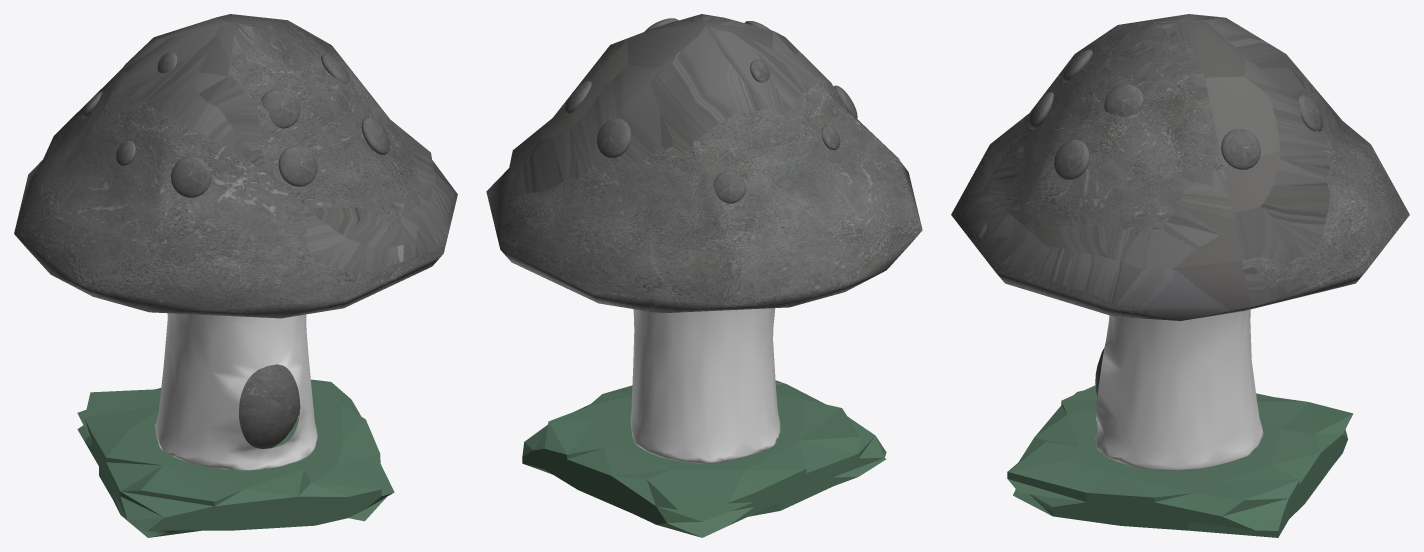
The model's file is MushroomCave02.fbx.
3 renders of one model, left to right at view 1: azimuth 30°, elevation 25°; view 2: azimuth 150°, elevation 25°; view 3: azimuth 270°, elevation 25°, orthographic. The views are drawn at different scales.
Parts seen in each view (by area): view 1: MushroomHead, pCube1, MushroomHouse, pSphere19, Spoors15, Spoors, Spoors1, Spoors3; view 2: MushroomHead, pCube1, MushroomHouse, Spoors7, Spoors5; view 3: MushroomHead, pCube1, MushroomHouse, Spoors8, Spoors3, Spoors2, Spoors7.
Boxes of the visible parts, x1=… form: MushroomHead: x1=14, y1=14, x2=457, y2=318; pCube1: x1=77, y1=379, x2=394, y2=537; MushroomHouse: x1=155, y1=313, x2=317, y2=470; pSphere19: x1=239, y1=364, x2=300, y2=448; Spoors15: x1=171, y1=156, x2=211, y2=197; Spoors: x1=278, y1=145, x2=317, y2=186; Spoors1: x1=261, y1=88, x2=300, y2=128; Spoors3: x1=361, y1=117, x2=389, y2=154; MushroomHead: x1=486, y1=14, x2=922, y2=313; pCube1: x1=522, y1=380, x2=886, y2=537; MushroomHouse: x1=630, y1=308, x2=780, y2=463; Spoors7: x1=597, y1=118, x2=631, y2=158; Spoors5: x1=713, y1=171, x2=745, y2=203; MushroomHead: x1=951, y1=14, x2=1409, y2=320; pCube1: x1=1007, y1=385, x2=1353, y2=537; MushroomHouse: x1=1095, y1=309, x2=1263, y2=470; Spoors8: x1=1221, y1=129, x2=1260, y2=169; Spoors3: x1=1054, y1=139, x2=1089, y2=179; Spoors2: x1=1104, y1=84, x2=1143, y2=117; Spoors7: x1=1297, y1=94, x2=1322, y2=131.
Size of the model in its own units: 5.28 by 6.09 by 5.59.
